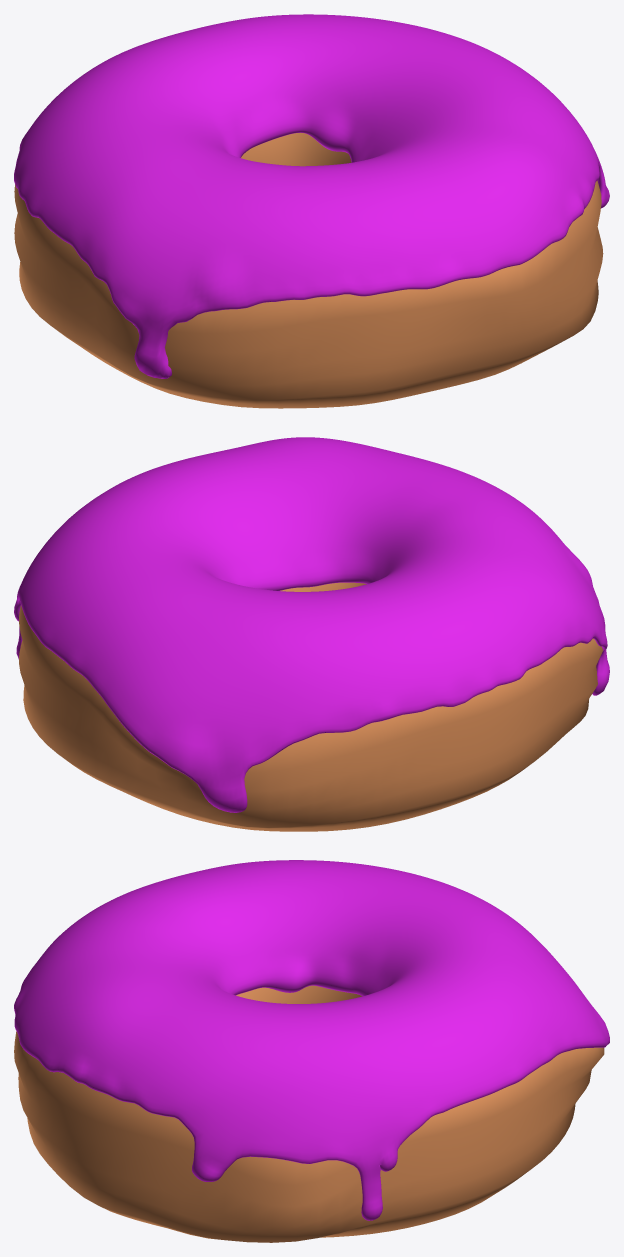
The model's file is Donut.fbx.
3 views of the same model, one above another, from view 1: azimuth 30°, elevation 25°; view 2: azimuth 150°, elevation 25°; view 3: azimuth 270°, elevation 25° (orthographic). The views are drawn at different scales.
Parts seen in each view (by area): view 1: Icing, Donut; view 2: Icing, Donut; view 3: Icing, Donut.
Boxes of the visible parts, left/top/right/bottom form: Icing: left=14, top=14, right=609, bottom=378; Donut: left=14, top=132, right=603, bottom=408; Icing: left=14, top=437, right=609, bottom=812; Donut: left=19, top=582, right=603, bottom=831; Icing: left=14, top=860, right=609, bottom=1220; Donut: left=14, top=985, right=604, bottom=1242.
Bounding box in the file's own units: 10.03 × 4.09 × 10.42.
